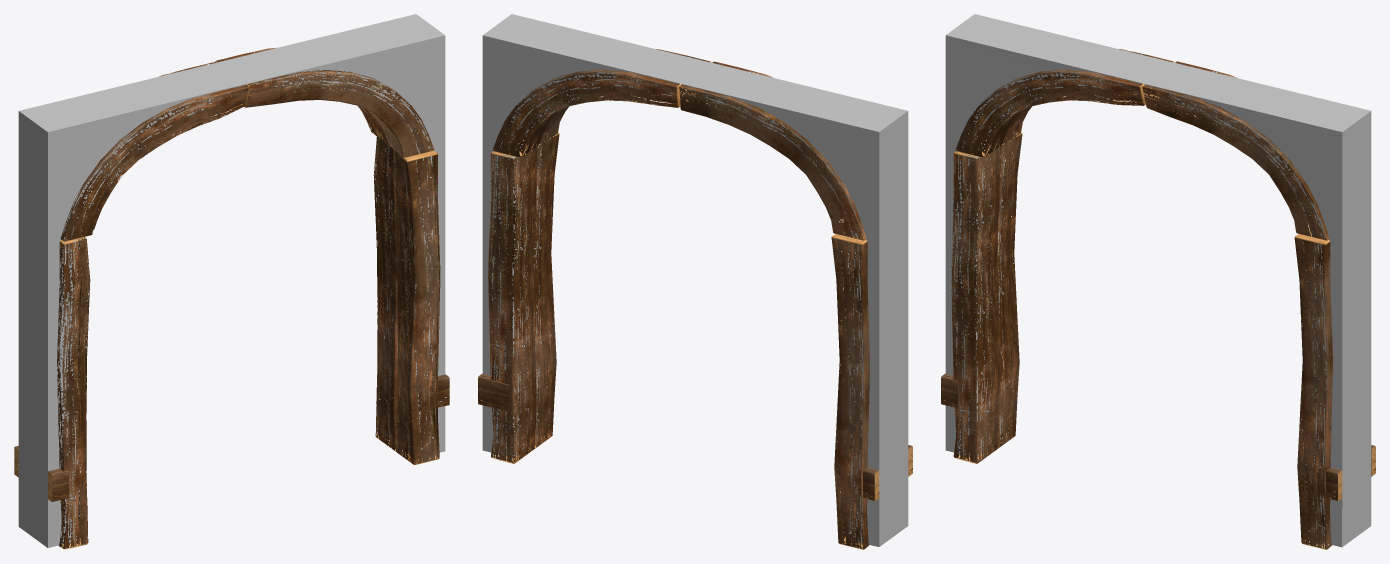
3 renders of one model, left to right at view 1: azimuth 30°, elevation 25°; view 2: azimuth 150°, elevation 25°; view 3: azimuth 330°, elevation 25°, orthographic.
Visible parts, largest first — view 1: SM_BB_T4_Wall_Large_Arch_LOD0; view 2: SM_BB_T4_Wall_Large_Arch_LOD0; view 3: SM_BB_T4_Wall_Large_Arch_LOD0.
Part boxes in pixels (x1=…): SM_BB_T4_Wall_Large_Arch_LOD0: x1=14, y1=14, x2=449, y2=549; SM_BB_T4_Wall_Large_Arch_LOD0: x1=478, y1=14, x2=912, y2=549; SM_BB_T4_Wall_Large_Arch_LOD0: x1=941, y1=14, x2=1375, y2=549.
Bounding box in the file's own units: 3 × 3.02 × 0.5152.
